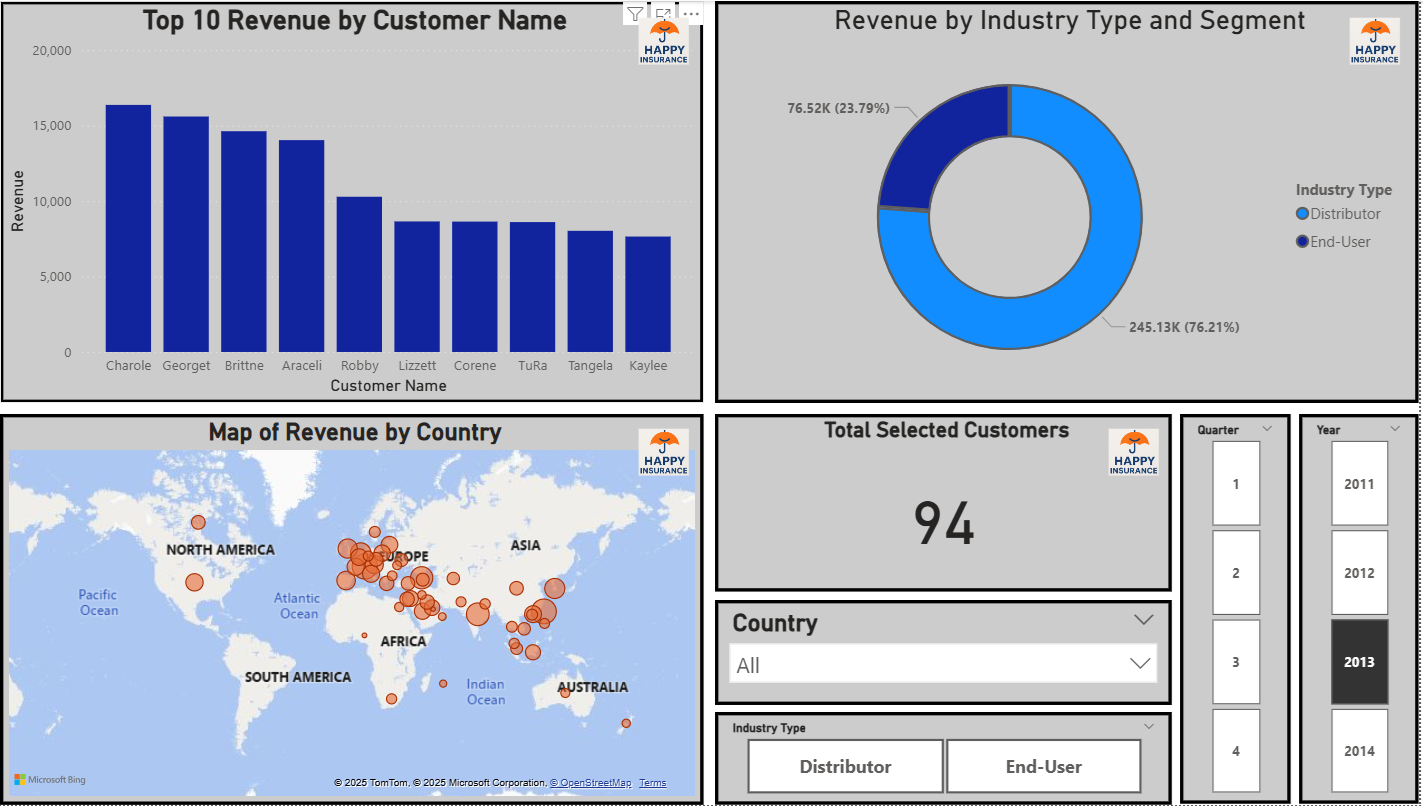

This screenshot's page, from the dashboard's own definition file:
{"tool":"powerbi","page":{"name":"Revenue by Customer and Region","canvas":[1280,720],"ordinal":1},"visuals":[{"type":"columnChart","title":"Top 10 Revenue by Customer Name","fields":{"Category":["Customers.CustomerName"],"Y":["Sales.Sum of Revenue"]},"box":[10,0,630,360.3],"z":0},{"type":"map","title":"Map of Revenue by Country","fields":{"Category":["Customers.Country"],"Size":["Sales.Sum of Revenue"]},"box":[10,370,630,350],"z":1000},{"type":"image","box":[576.3,9,54.7,53.7],"z":2000},{"type":"image","box":[576.3,377.2,54.7,53.7],"z":3000},{"type":"donutChart","title":"Revenue by Industry Type and Segment","fields":{"Category":["Customers.IndustryType","Products.SegmentName"],"Y":["Sales.Sum of Revenue"]},"box":[650,0,630,360],"z":4000},{"type":"card","title":"Total Selected Customers","fields":{"Values":["Customers.CustomerSK"]},"box":[650,370.3,409.1,159.3],"z":5000},{"type":"slicer","fields":{"Values":["Date.Year"]},"box":[1173.5,370.3,106.5,349.4],"z":6000},{"type":"slicer","fields":{"Values":["Date.Quarter"]},"box":[1067,370.3,98.5,349.4],"z":7000},{"type":"slicer","fields":{"Values":["Customers.Country"]},"box":[650,536.5,409.1,93.6],"z":8000},{"type":"slicer","fields":{"Values":["Customers.IndustryType"]},"box":[650,637,409.1,82.6],"z":9000},{"type":"image","box":[1213.3,9,54.7,53.7],"z":10000},{"type":"image","box":[997.3,377.2,54.7,53.7],"z":11000}]}

Visuals, with their boxes in screenshot pixels (x1, y1, x2, y2), scaled from the page's 1280x720 canvas onto the 1423x806 screenshot:
"Top 10 Revenue by Customer Name" columnChart: (11, 0, 712, 403)
"Map of Revenue by Country" map: (11, 414, 712, 805)
image: (641, 10, 701, 70)
image: (641, 422, 701, 482)
"Revenue by Industry Type and Segment" donutChart: (723, 0, 1422, 403)
"Total Selected Customers" card: (723, 415, 1177, 593)
slicer - Date.Year: (1305, 415, 1422, 805)
slicer - Date.Quarter: (1186, 415, 1296, 805)
slicer - Customers.Country: (723, 601, 1177, 705)
slicer - Customers.IndustryType: (723, 713, 1177, 805)
image: (1349, 10, 1410, 70)
image: (1109, 422, 1170, 482)
